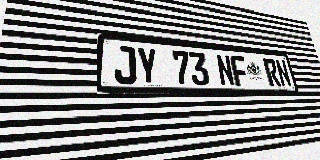3: (188, 52, 210, 86)
7: (171, 50, 192, 86)
F: (230, 56, 250, 86)
J: (114, 45, 137, 85)
N: (215, 54, 236, 86), (274, 60, 292, 87)
R: (263, 58, 281, 87)
Y: (136, 47, 159, 85)
